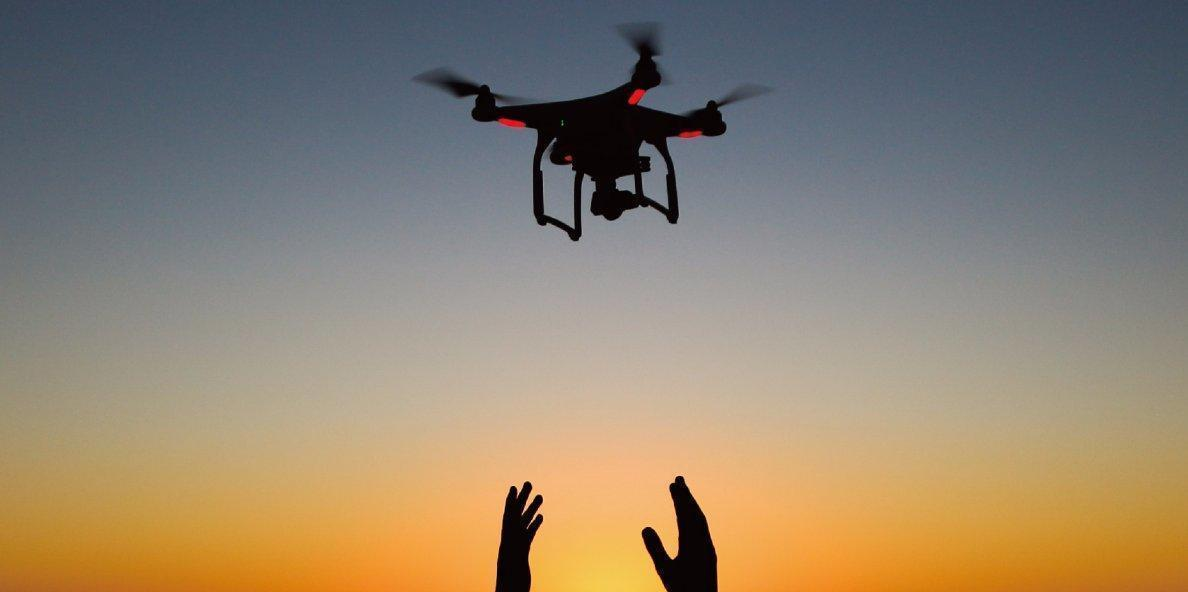UAV: (469, 49, 731, 243)
